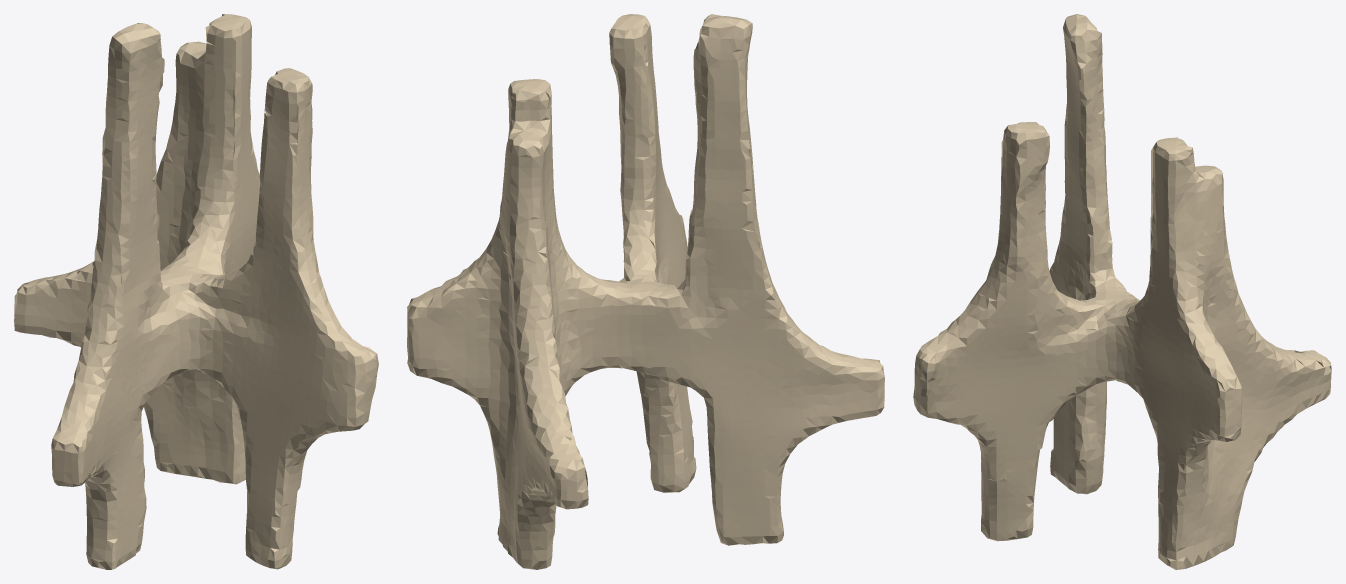
The model's file is skulptur-08.glb.
The picture shows the model from 3 angles, left to right: view 1: azimuth 30°, elevation 25°; view 2: azimuth 150°, elevation 25°; view 3: azimuth 270°, elevation 25°; orthographic projection. The views are drawn at different scales.
Parts seen in each view (by area): view 1: skulptur-08; view 2: skulptur-08; view 3: skulptur-08.
Part boxes in pixels (x1,y1,x2,y2): skulptur-08: [14, 14, 378, 569]; skulptur-08: [407, 14, 884, 569]; skulptur-08: [913, 14, 1331, 569].
Bounding box in the file's own units: 0.717 × 0.9984 × 0.7938.
